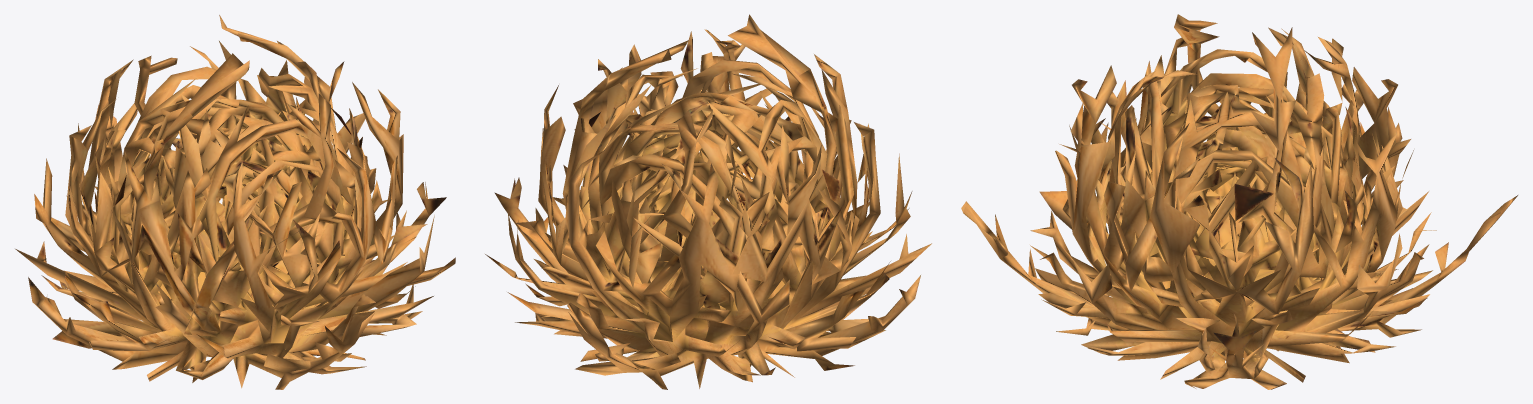
File: Meshy_AI_Golden_Coral_Nest_0512183713_texture.fbx
3 renders of one model, left to right at view 1: azimuth 30°, elevation 25°; view 2: azimuth 150°, elevation 25°; view 3: azimuth 270°, elevation 25°, orthographic. The views are drawn at different scales.
Parts seen in each view (by area): view 1: Mesh_0; view 2: Mesh_0; view 3: Mesh_0.
Part boxes in pixels (x1,y1,x2,y2): Mesh_0: [15, 15, 455, 389]; Mesh_0: [485, 14, 931, 389]; Mesh_0: [961, 14, 1517, 389].
Bounding box in the file's own units: 162 × 117 × 187.
Materials: 1 (1 with a texture image).
